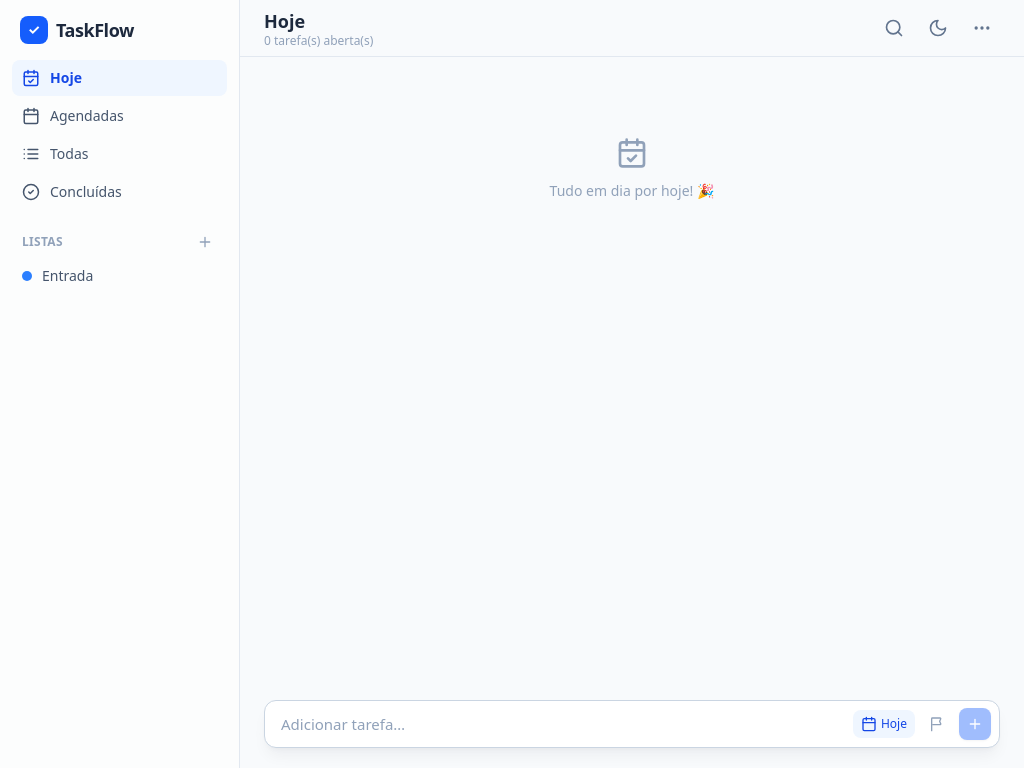
Test: App › adiciona tarefa pelo quick add com data de hoje
The width and height of the screenshot is (1024, 768).
Type "Comprar pão" into the field labelled "Adicionar tarefa" at (559, 724), box [273,706,845,741]
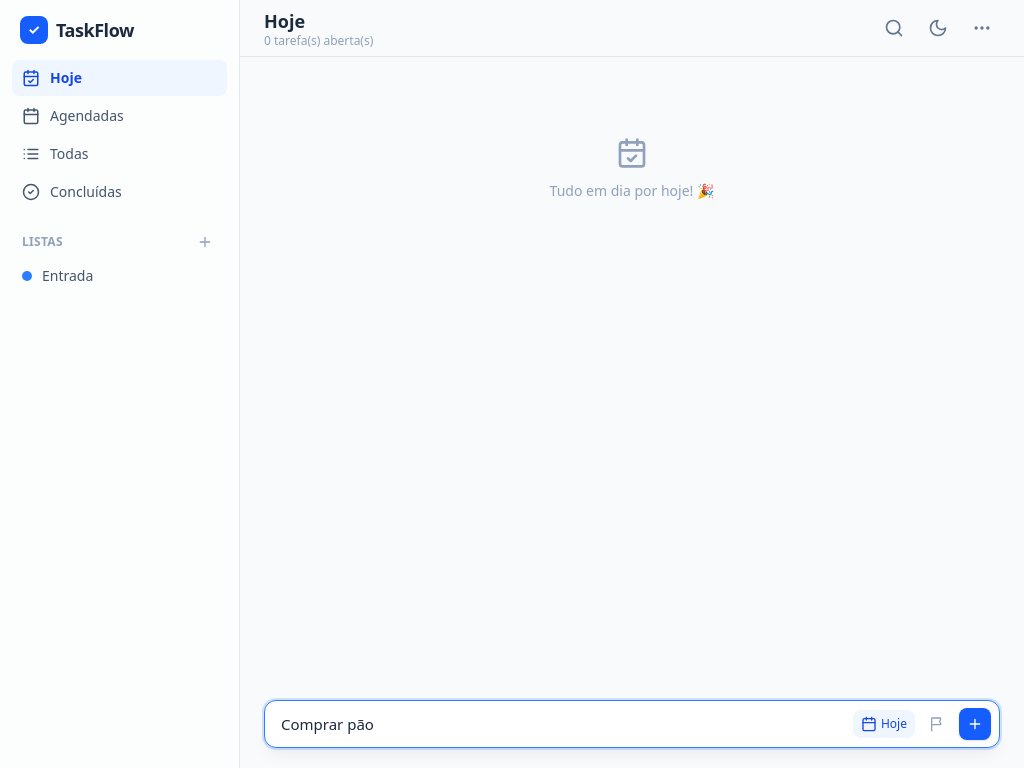
Press Enter
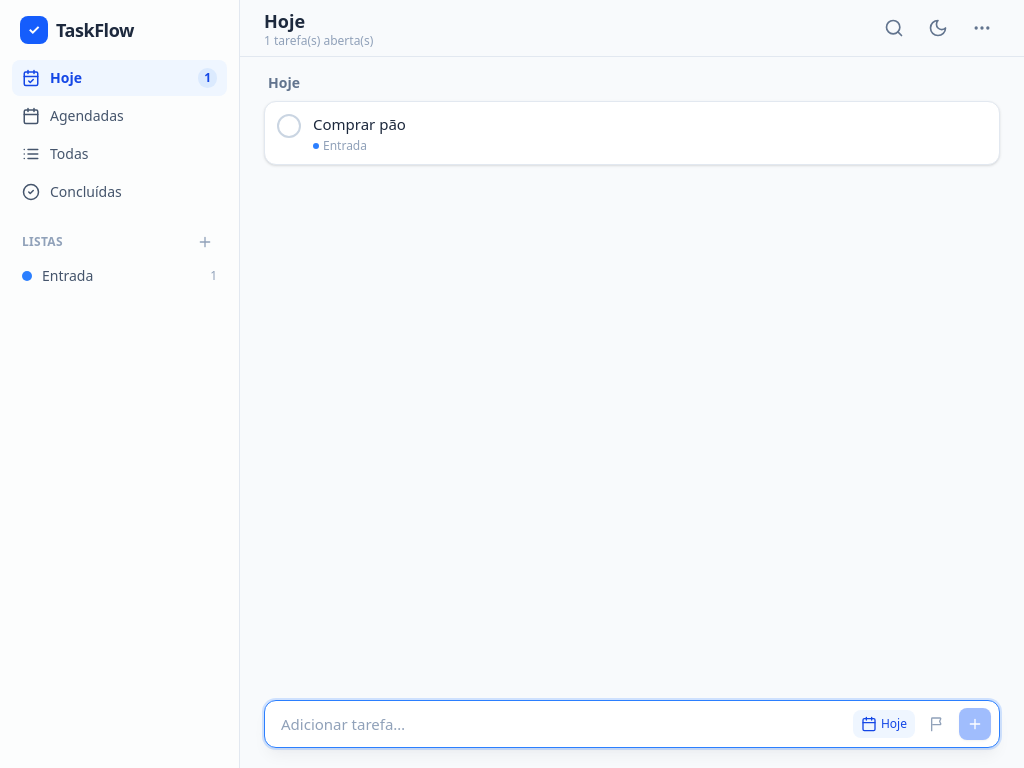
Expected: the text "Comprar pão" is shown, [313,114,406,134]
